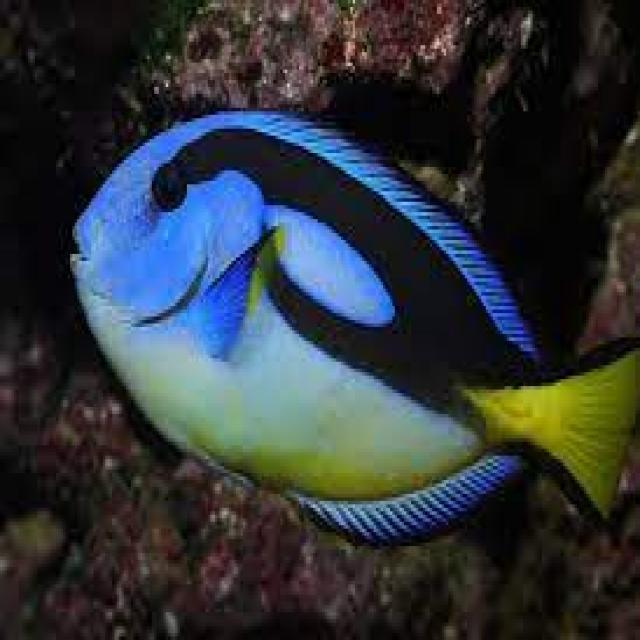BlueTang: (72, 108, 637, 550)
